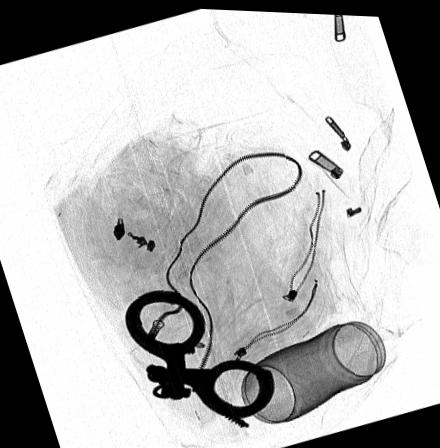HandCuffs: (121, 285, 278, 427)
